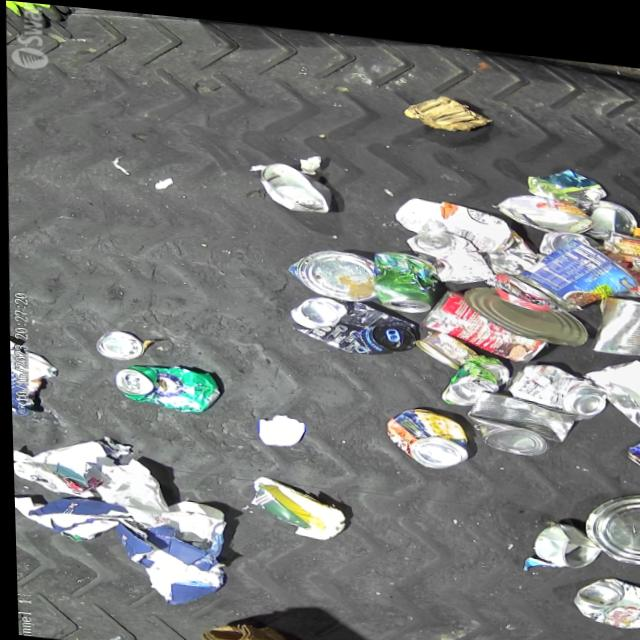can: (512, 222, 640, 308), (419, 276, 547, 353), (286, 285, 414, 351), (463, 377, 577, 449), (462, 275, 588, 334), (504, 348, 604, 410), (110, 356, 218, 411), (382, 396, 467, 461), (403, 218, 494, 278), (284, 237, 374, 295), (579, 475, 640, 554), (369, 242, 437, 307), (494, 181, 595, 224), (253, 153, 330, 208), (437, 342, 509, 400), (568, 561, 640, 618), (532, 507, 600, 559), (586, 280, 640, 343), (601, 216, 640, 286), (412, 319, 476, 361), (582, 185, 638, 229), (536, 217, 600, 247), (92, 325, 141, 359), (620, 405, 640, 462)
